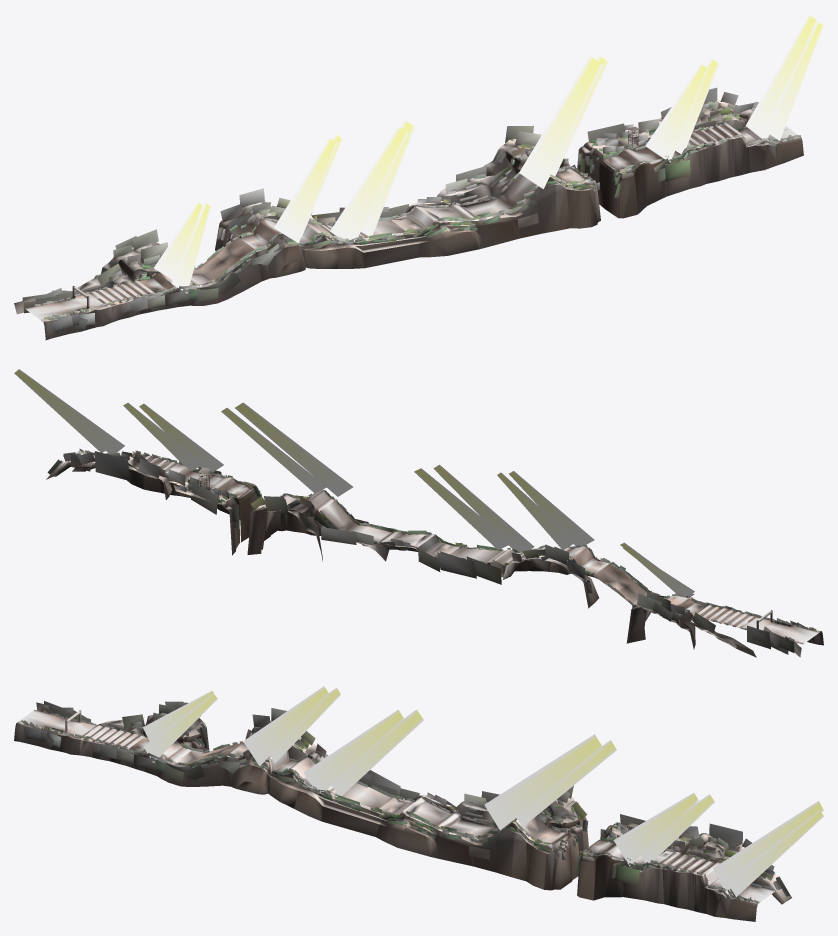
Rendered from Forest_08.fbx.
3 views of the same model, one above another, from view 1: azimuth 30°, elevation 25°; view 2: azimuth 150°, elevation 25°; view 3: azimuth 330°, elevation 25° (orthographic). The views are drawn at different scales.
Visible parts, largest first — view 1: Mountain_01, Light_01, Tree_01, Ground_01; view 2: Light_01, Tree_01, Mountain_01, Ground_01; view 3: Mountain_01, Light_01, Tree_01, Ground_01.
Part boxes in pixels (x1=…): Mountain_01: x1=41, y1=100, x2=803, y2=340; Light_01: x1=154, y1=14, x2=823, y2=293; Tree_01: x1=14, y1=87, x2=800, y2=332; Ground_01: x1=25, y1=123, x2=797, y2=320; Light_01: x1=14, y1=369, x2=694, y2=597; Tree_01: x1=47, y1=448, x2=816, y2=657; Mountain_01: x1=46, y1=450, x2=823, y2=657; Ground_01: x1=64, y1=451, x2=819, y2=644; Mountain_01: x1=14, y1=712, x2=791, y2=921; Light_01: x1=143, y1=686, x2=823, y2=896; Tree_01: x1=21, y1=701, x2=789, y2=903; Ground_01: x1=19, y1=710, x2=775, y2=902.
Size of the model in its own units: 40293 by 6998 by 4279.
